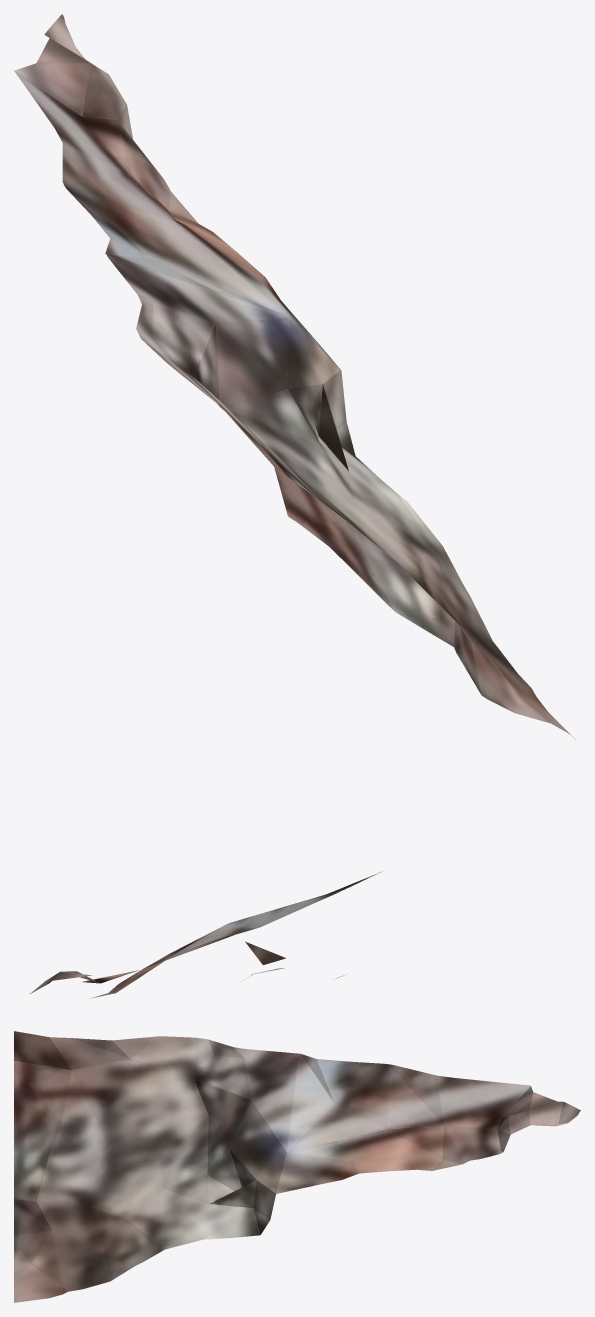
3 views of the same model, one above another, from view 1: azimuth 30°, elevation 25°; view 2: azimuth 150°, elevation 25°; view 3: azimuth 270°, elevation 25° (orthographic). The views are drawn at different scales.
Size of the model in its own units: 0.4673 by 0.5249 by 1.4.
Materials: 1 (1 with a texture image).
